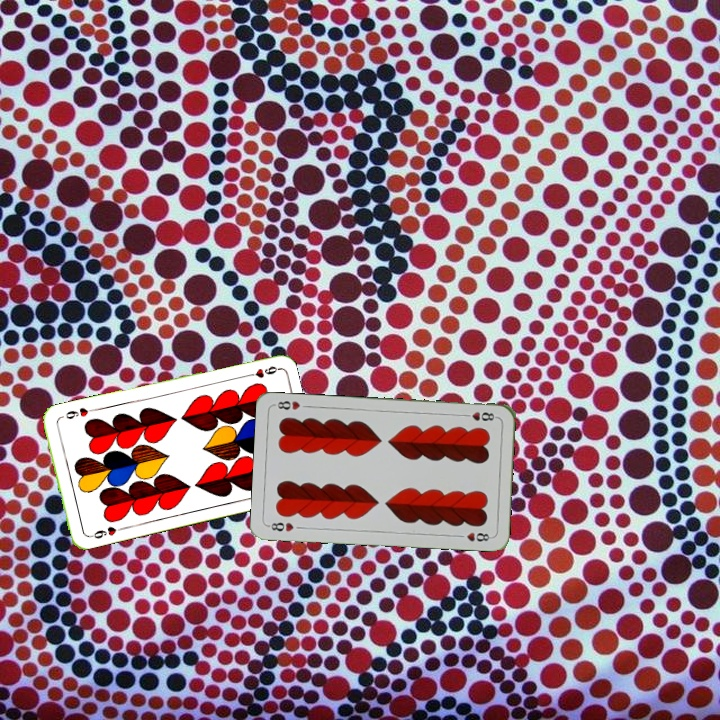H8: (459, 407, 499, 424), (265, 518, 296, 534)
H9: (84, 522, 124, 541), (240, 362, 281, 380)
